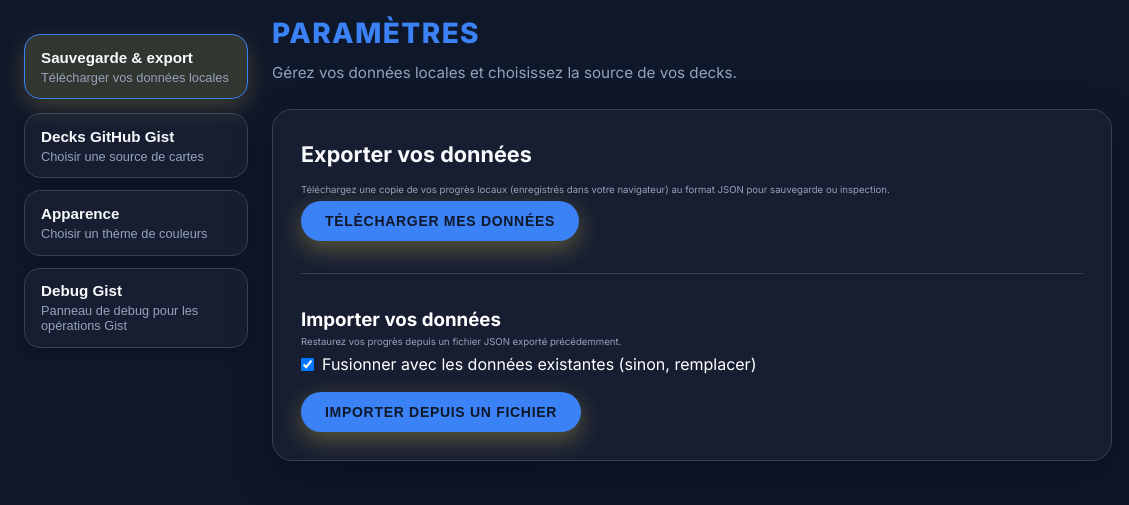
SettingsPage › lists available Gist decks with radio inputs
What coordinates should you click on to do the following:
click the tab "Decks GitHub Gist Choisir une source de cartes"
I would click on:
 (136, 146)
Its box is top-left (24, 113), bottom-right (248, 178).
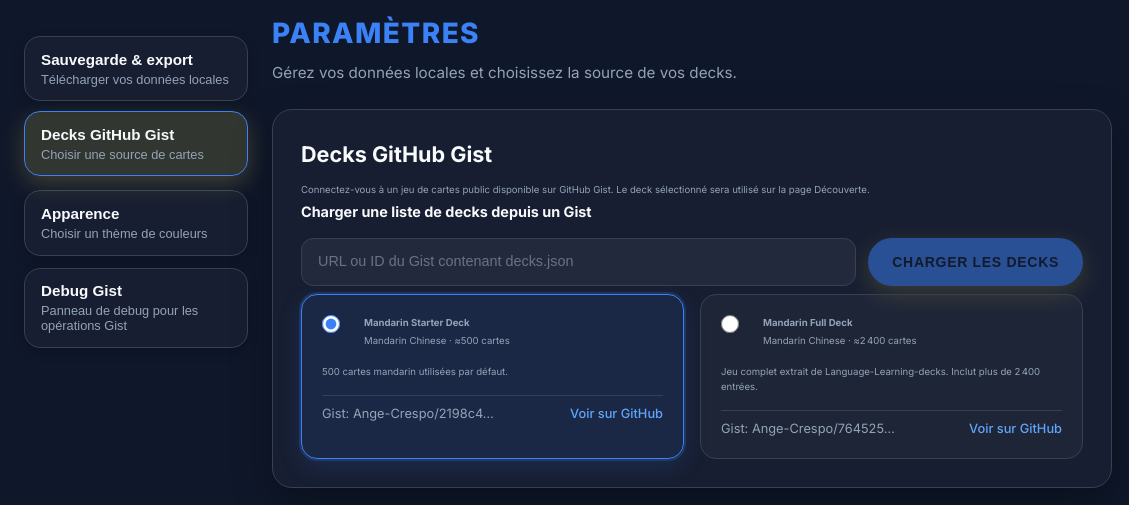
Now the radio button labelled "Mandarin Starter Deck" is shown, box top-left (322, 315), bottom-right (340, 333)
Now the radio button labelled "Mandarin Full Deck" is shown, box top-left (721, 315), bottom-right (739, 333)
